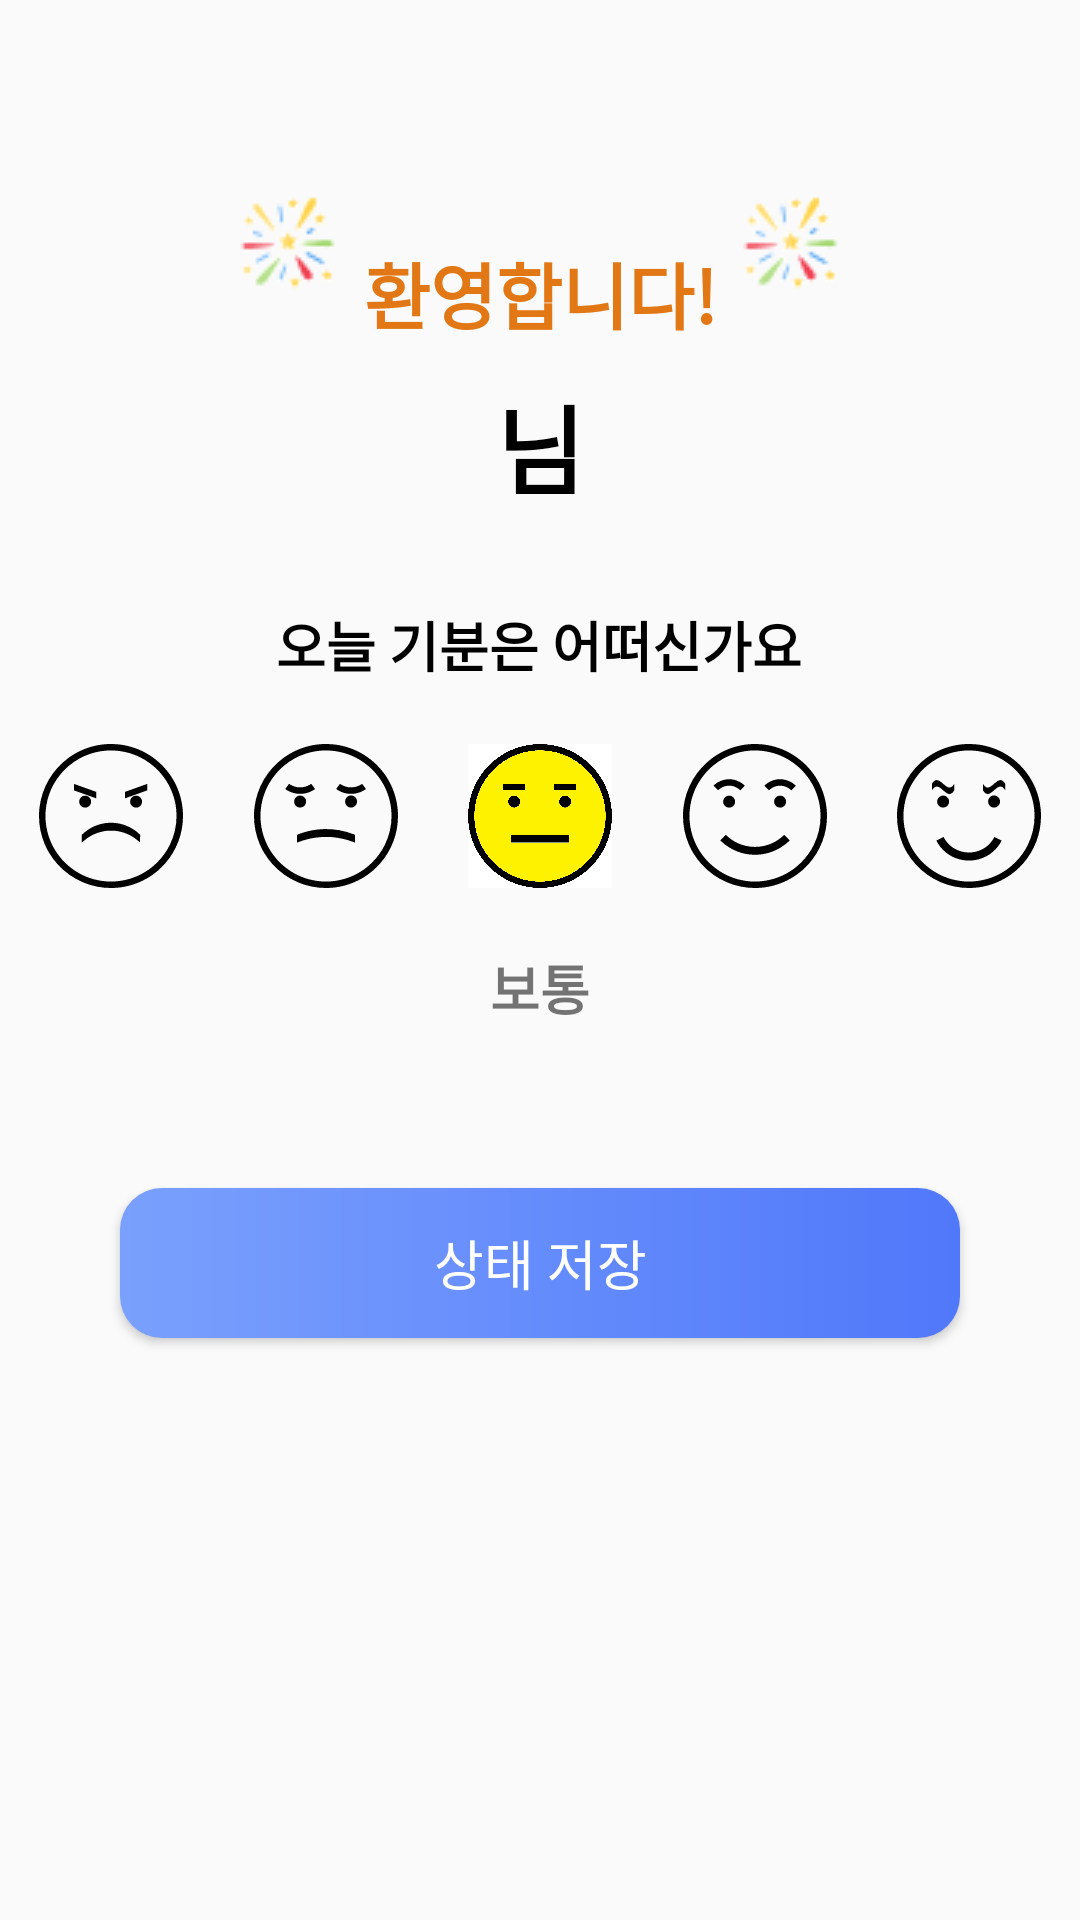

Icons on this 1080px×1920px Android screen, each with its box as (x1, y1, x2, y2):
bad: (254, 744, 398, 888)
firework: (242, 197, 334, 288), (745, 197, 837, 288)
good: (683, 744, 827, 888)
vbad: (39, 744, 183, 888)
vgood: (897, 744, 1041, 888)
